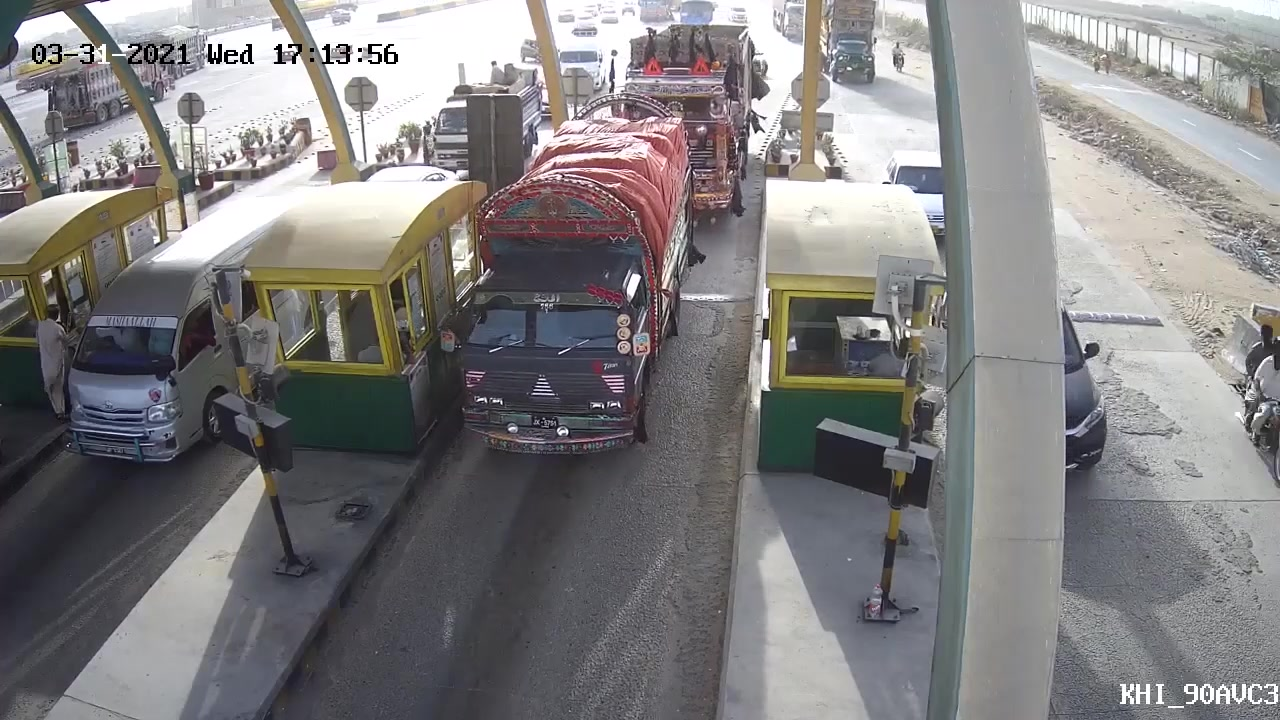F5: (438, 162, 698, 462)
